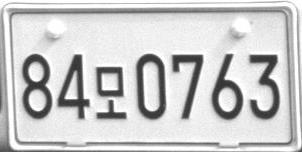0: (134, 52, 167, 120)
3: (248, 53, 281, 121)
4: (56, 53, 90, 119)
6: (210, 52, 244, 120)
7: (170, 53, 204, 119)
8: (21, 52, 52, 120)
모: (95, 66, 127, 120)
